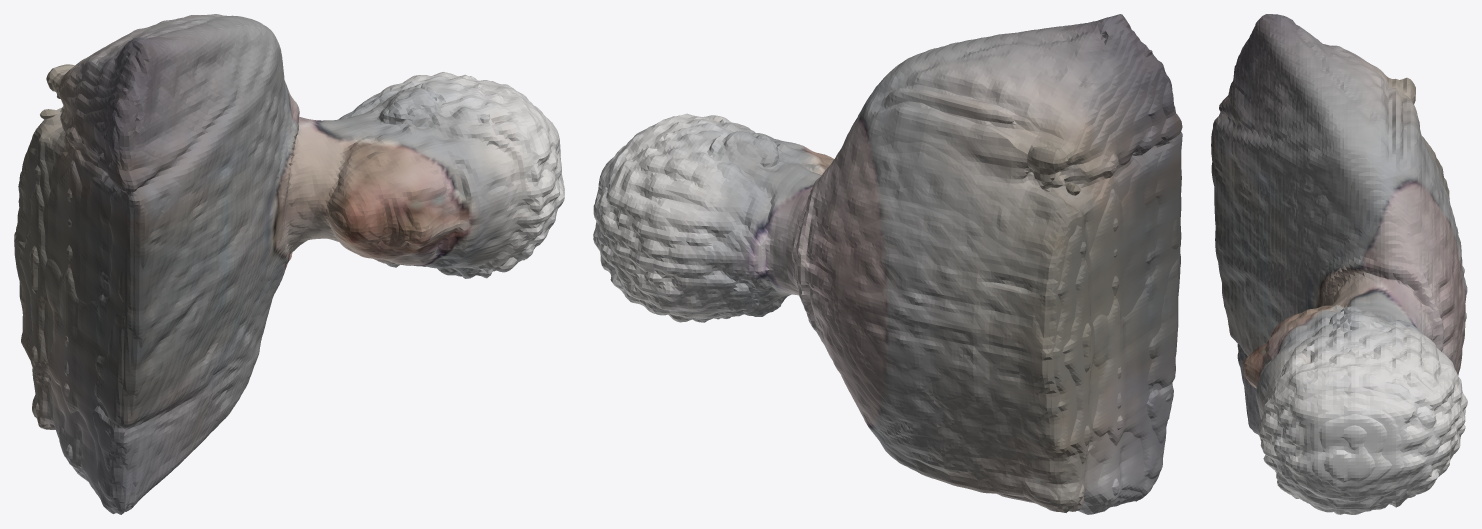
Rendered from bust.glb.
3 views of the same model, side by side, from view 1: azimuth 30°, elevation 25°; view 2: azimuth 150°, elevation 25°; view 3: azimuth 270°, elevation 25° (orthographic). The views are drawn at different scales.
Bounding box in the file's own units: 0.9843 × 0.8899 × 0.4729.
